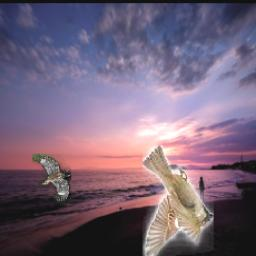Sparrow: (142, 146, 214, 256)
Woodpecker: (33, 155, 72, 202)
